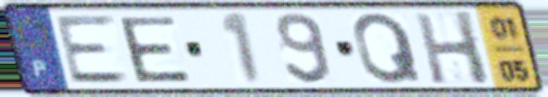1: (219, 10, 263, 88)
9: (273, 11, 333, 86)
E: (52, 13, 134, 87), (114, 14, 195, 85)
H: (410, 9, 494, 87)
Q: (349, 10, 426, 86)
